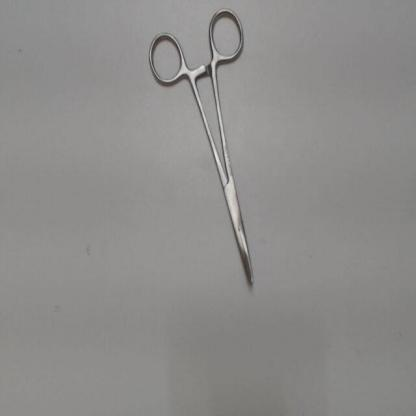Crile Artery Forceps: (144, 1, 260, 296)
